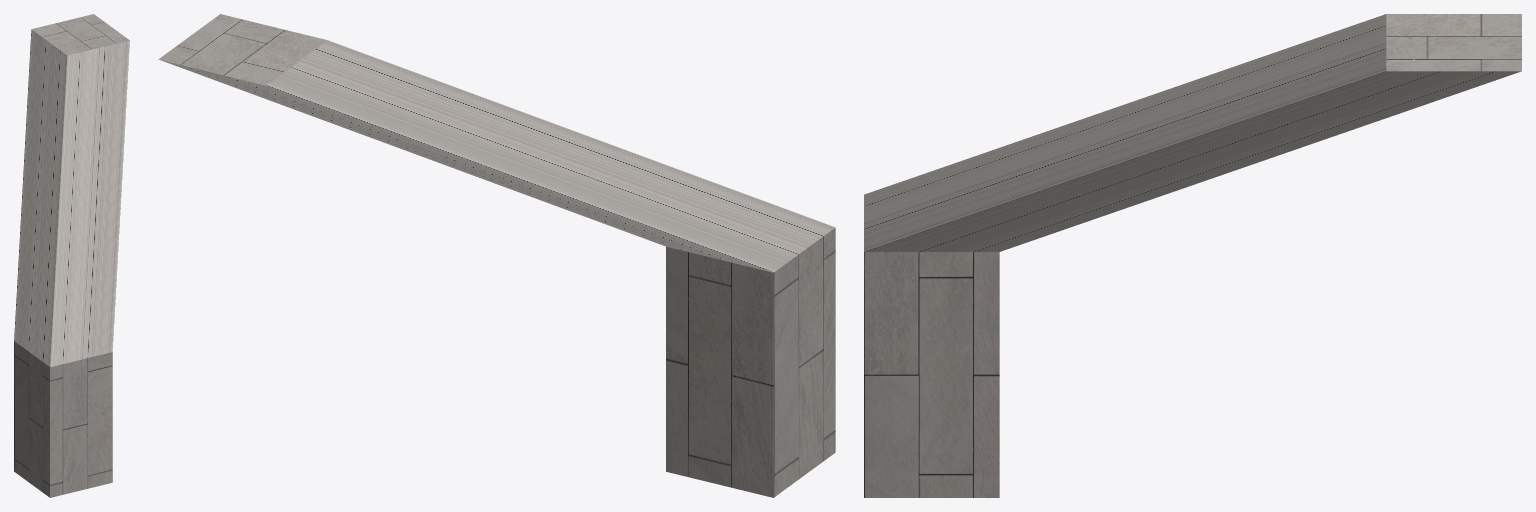
The model's file is Tower Spike.glb.
The picture shows the model from 3 angles, left to right: view 1: azimuth 30°, elevation 25°; view 2: azimuth 150°, elevation 25°; view 3: azimuth 270°, elevation 25°; orthographic projection. The views are drawn at different scales.
Visible parts, largest first — view 1: Right Tower; view 2: Right Tower; view 3: Right Tower.
Boxes of the visible parts, box(x1,y1,x2,y2) form: Right Tower: box(14, 14, 129, 497); Right Tower: box(158, 14, 835, 497); Right Tower: box(864, 14, 1521, 497).
Bounding box in the file's own units: 7 × 9.27 × 9.7.
1 material, 1 textured.
